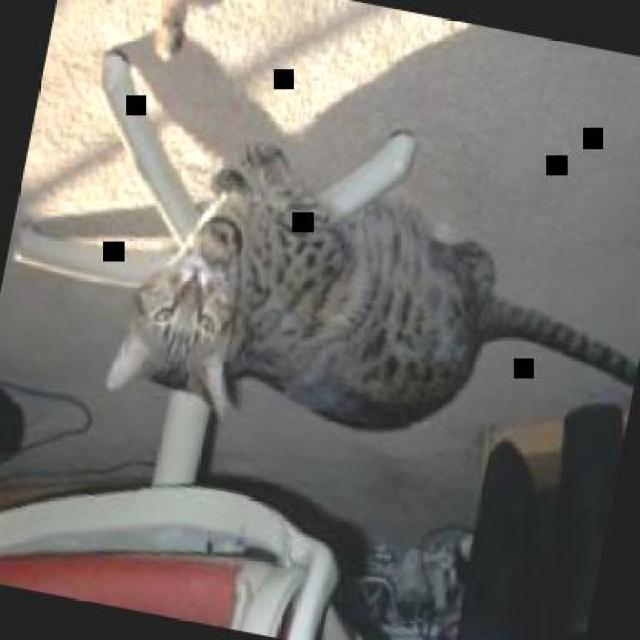cat: (100, 118, 638, 494)
